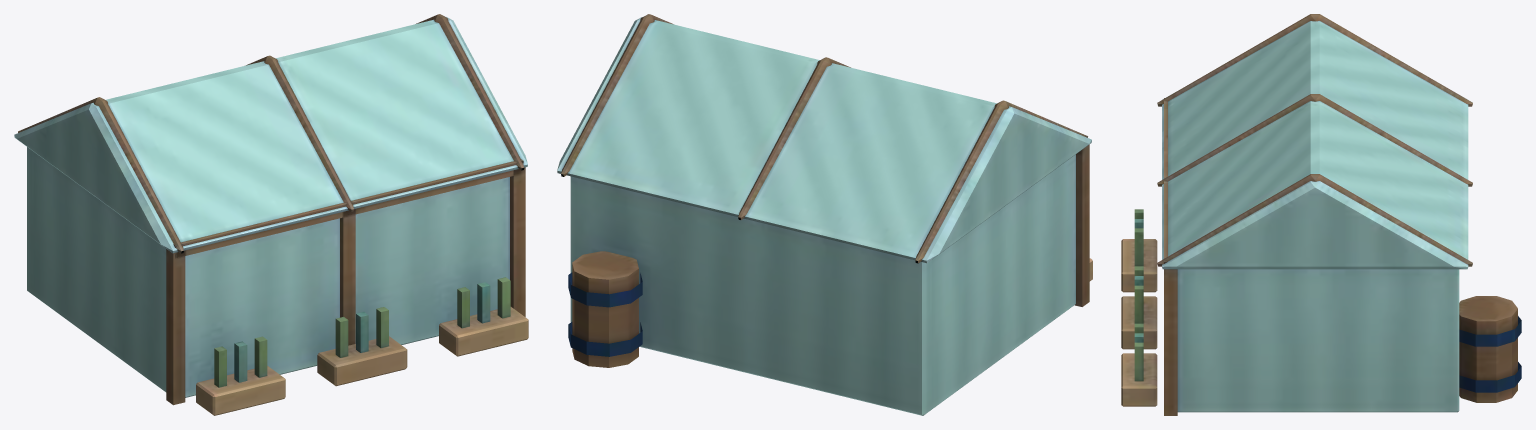
Rendered from greenhouse-3-age1.glb.
3 views of the same model, side by side, from view 1: azimuth 30°, elevation 25°; view 2: azimuth 150°, elevation 25°; view 3: azimuth 270°, elevation 25° (orthographic). The views are drawn at different scales.
Visible parts, largest first — view 1: greenhouse-3-age1; view 2: greenhouse-3-age1; view 3: greenhouse-3-age1.
Boxes of the visible parts, x1=… form: greenhouse-3-age1: x1=14, y1=14, x2=528, y2=415; greenhouse-3-age1: x1=557, y1=14, x2=1092, y2=415; greenhouse-3-age1: x1=1121, y1=14, x2=1521, y2=415.
Bounding box in the file's own units: 0.9 × 0.5835 × 0.888.
Materials: 1 (1 with a texture image).
